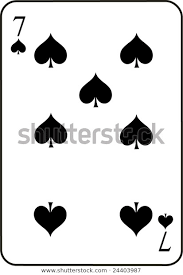seven of spades: (1, 1, 182, 264)
